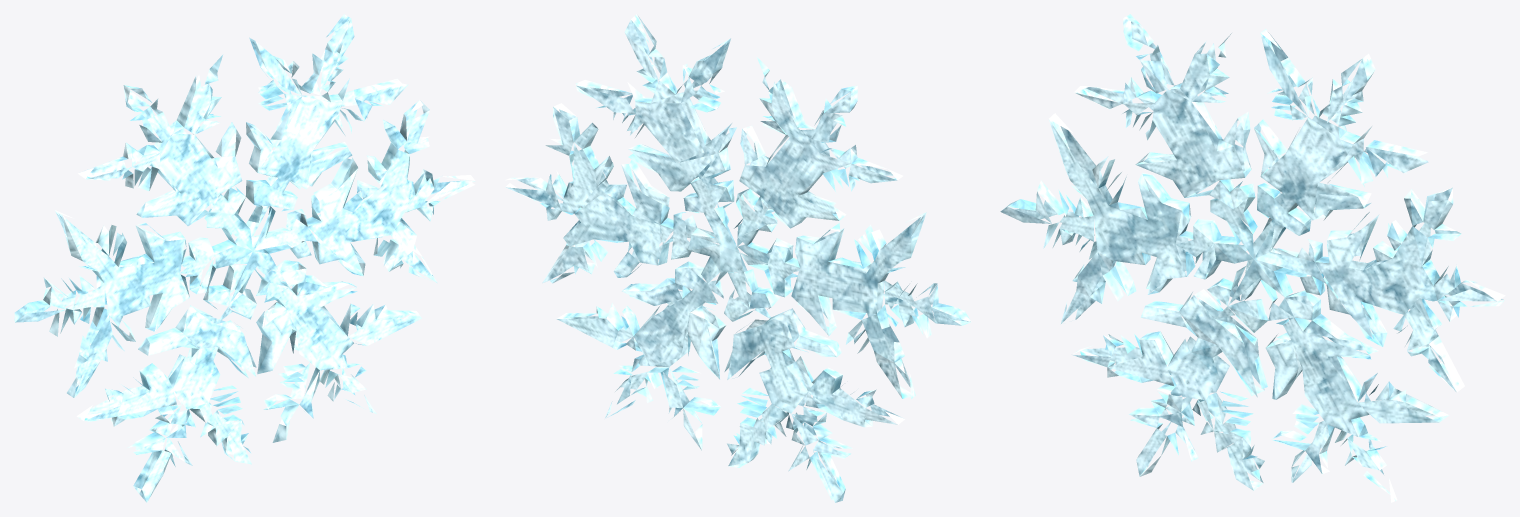
Rendered from snowflake1.glb.
3 renders of one model, left to right at view 1: azimuth 30°, elevation 25°; view 2: azimuth 150°, elevation 25°; view 3: azimuth 330°, elevation 25°, orthographic. The views are drawn at different scales.
Parts seen in each view (by area): view 1: Object_2; view 2: Object_2; view 3: Object_2.
Part boxes in pixels (box(x1,y1,x2,y2)): Object_2: box(14, 14, 475, 502); Object_2: box(505, 14, 971, 502); Object_2: box(1000, 14, 1505, 502).
Size of the model in its own units: 1.98 by 1.78 by 0.0656.
1 material, 1 textured.
